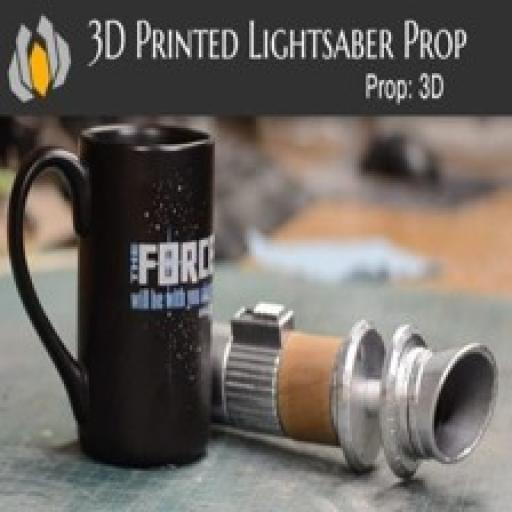lightsaber: (214, 302, 498, 477)
